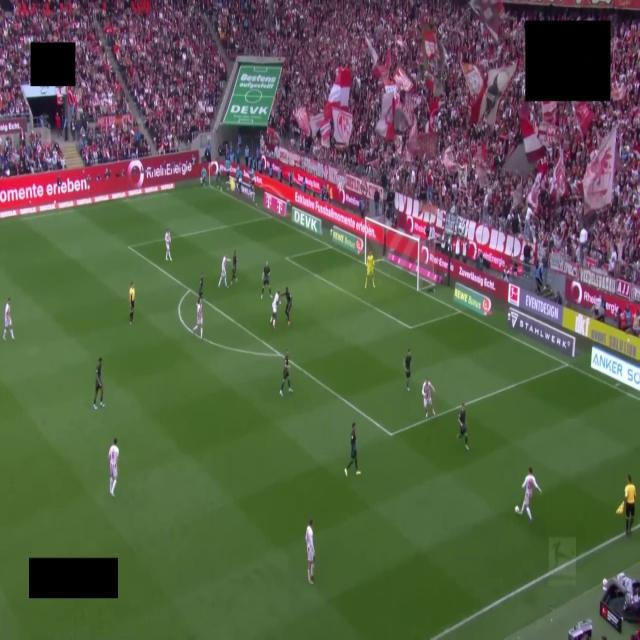ball: (515, 506, 519, 513)
player: (519, 467, 541, 521), (345, 423, 360, 476), (280, 350, 292, 396), (93, 358, 104, 408), (457, 403, 468, 450), (109, 439, 118, 496), (306, 520, 314, 584), (422, 379, 435, 417), (3, 298, 14, 340), (261, 262, 272, 298), (193, 298, 202, 338), (270, 291, 279, 328), (365, 253, 374, 287), (219, 254, 228, 287), (404, 350, 411, 391), (285, 287, 292, 326), (231, 250, 237, 285), (165, 229, 171, 261), (198, 272, 204, 299)
referee: (129, 282, 135, 324)
